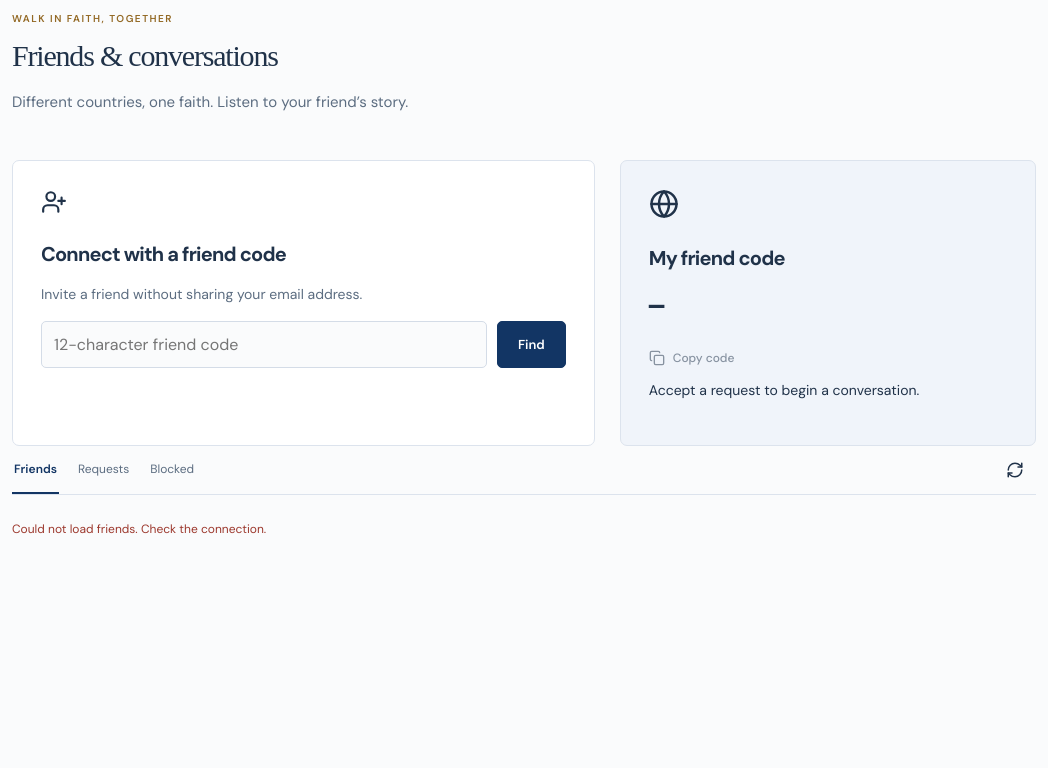
Test case: distinguishes a failed friend-list lookup from an empty list and recovers on refresh
Check: the element that starts with "WALK IN FAITH, TOGETHER" shows "Could not load friends.", box [12,521,266,537]
Click the button named "Refresh list" at (1015, 470), box [994,448,1036,492]
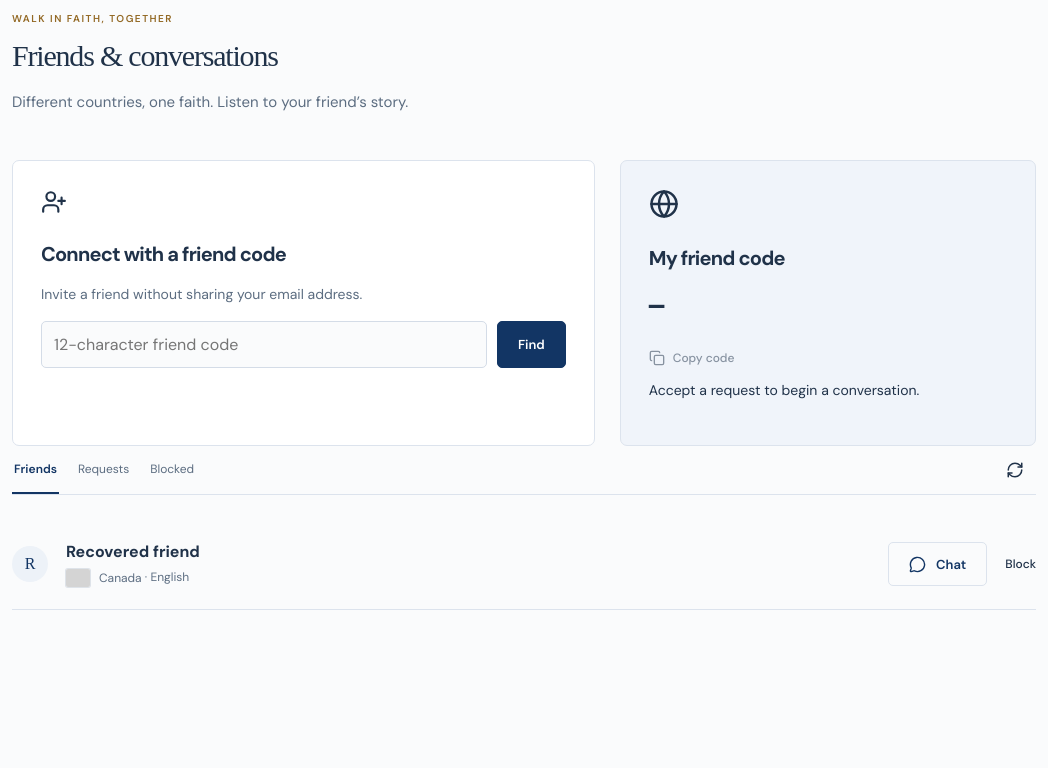
Check: the element with class "friend-list" shows "Recovered friend", box [66,541,200,562]
Check: the message "Could not load friends. Check the connection." no longer shows "Could not load friends."
